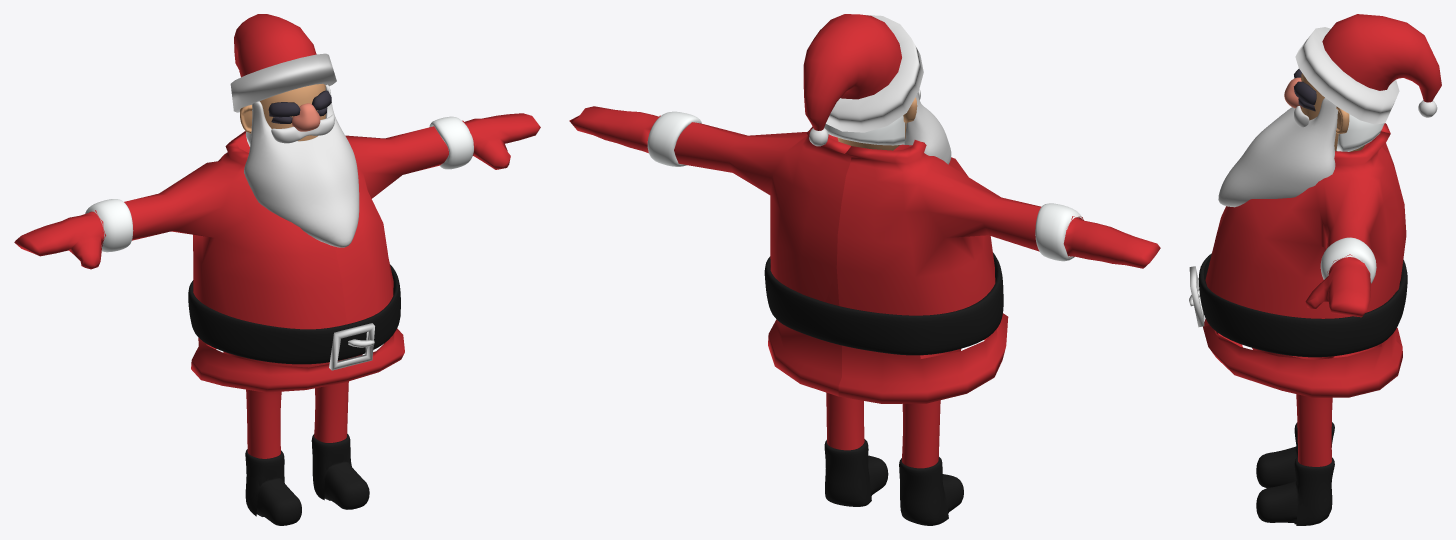
The model's file is noel_14_sebrae.fbx.
3 renders of one model, left to right at view 1: azimuth 30°, elevation 25°; view 2: azimuth 150°, elevation 25°; view 3: azimuth 270°, elevation 25°, orthographic. The views are drawn at different scales.
Visible parts, largest first — view 1: Sphere, Sphere.003, Sphere.007, Sphere.013, Sphere.001, Cylinder, Cylinder.001, Sphere.008, Sphere.012, Sphere.002, Sphere.004, Sphere.009 (+2 smaller); view 2: Sphere, Sphere.007, Cylinder, Sphere.013, Sphere.001, Cylinder.001, Sphere.008, Sphere.003, Sphere.010, Sphere.012; view 3: Sphere, Sphere.007, Sphere.003, Cylinder, Cylinder.001, Sphere.013, Sphere.001, Sphere.012, Sphere.008, Sphere.010, Sphere.009, Sphere.002 (+2 smaller).
Part boxes in pixels (box(x1,y1,x2,y2)): Sphere: box(14, 113, 540, 392); Sphere.003: box(244, 84, 359, 247); Sphere.007: box(188, 264, 400, 364); Sphere.013: box(245, 434, 369, 525); Sphere.001: box(223, 351, 362, 458); Cylinder: box(234, 14, 316, 77); Cylinder.001: box(230, 53, 336, 112); Sphere.008: box(85, 116, 473, 252); Sphere.012: box(248, 445, 358, 517); Sphere.002: box(329, 323, 374, 370); Sphere.004: box(260, 83, 325, 141); Sphere.009: box(268, 90, 331, 123); Sphere: box(569, 106, 1160, 403); Sphere.007: box(764, 252, 1003, 355); Cylinder: box(803, 14, 901, 130); Sphere.013: box(824, 439, 963, 525); Sphere.001: box(826, 349, 961, 468); Cylinder.001: box(826, 15, 923, 132); Sphere.008: box(647, 111, 1082, 261); Sphere.003: box(904, 93, 951, 164); Sphere.010: box(824, 115, 905, 145); Sphere.012: box(864, 460, 955, 525); Sphere: box(1203, 123, 1406, 397); Sphere.007: box(1198, 253, 1407, 357); Sphere.003: box(1218, 98, 1338, 207); Cylinder: box(1322, 14, 1441, 102); Cylinder.001: box(1295, 27, 1399, 124); Sphere.013: box(1256, 422, 1334, 524); Sphere.001: box(1252, 343, 1381, 466); Sphere.012: box(1279, 438, 1317, 525); Sphere.008: box(1320, 237, 1376, 283); Sphere.010: box(1336, 114, 1384, 151); Sphere.009: box(1294, 69, 1316, 111); Sphere.002: box(1189, 266, 1204, 327).
Bounding box in the file's own units: 1469 × 1244 × 588.
